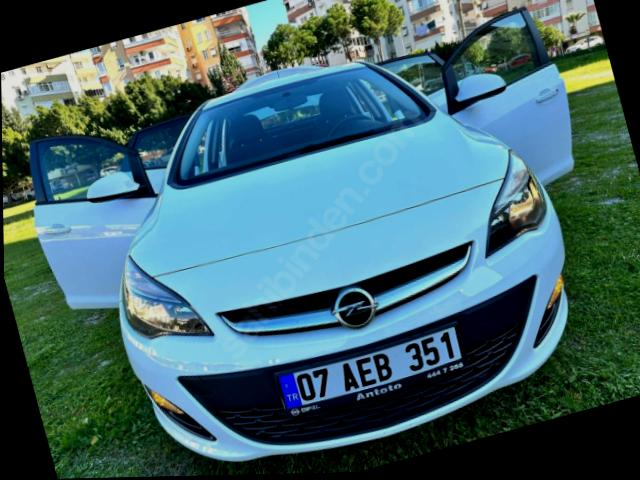plaka: (275, 324, 464, 414)
